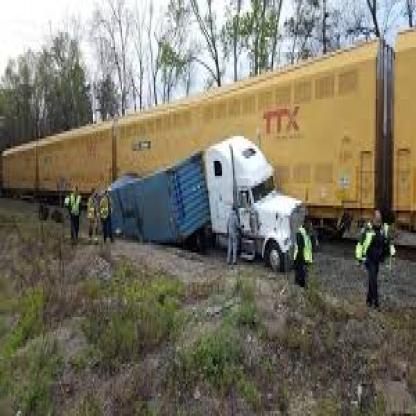accident: (92, 111, 338, 277)
